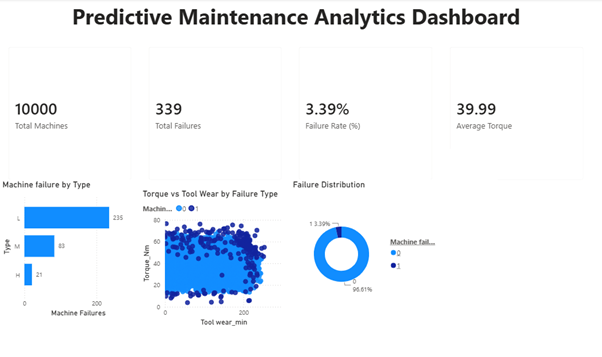

The dashboard page shown, as its layout file describes it:
{"tool":"powerbi","page":{"name":"Page 1","canvas":[1280,720],"ordinal":0},"visuals":[{"type":"cardVisual","fields":{"Data":["predictive_maintenance.Total Machines"]},"box":[0,79.4,279.5,299.4],"z":0},{"type":"cardVisual","fields":{"Data":["predictive_maintenance.Total Failures"]},"box":[279.5,79.4,299.4,299.4],"z":1000},{"type":"cardVisual","fields":{"Data":["predictive_maintenance.Failure Rate (%)"]},"box":[578.9,79.4,300.9,299.4],"z":2000},{"type":"cardVisual","fields":{"Data":["predictive_maintenance.Average Torque"]},"box":[879.8,79.4,300.9,299.4],"z":3000},{"type":"clusteredBarChart","title":"Machine failure by Type","fields":{"Category":["predictive_maintenance.Type"],"Y":["Sum(predictive_maintenance.Machine failure)"]},"box":[0,360.5,279.5,279.5],"z":4000},{"type":"scatterChart","title":"Torque vs Tool Wear by Failure Type","fields":{"X":["predictive_maintenance.Tool wear_min"],"Y":["predictive_maintenance.Torque_Nm"],"Series":["predictive_maintenance.Machine failure"]},"box":[279.5,378.8,299.4,279.5],"z":5000},{"type":"donutChart","title":"Failure Distribution","fields":{"Category":["predictive_maintenance.Machine failure"],"Y":["CountNonNull(predictive_maintenance.Machine failure)"]},"box":[578.9,360.5,300.9,279.5],"z":6000},{"type":"textbox","box":[879.8,299.4,113,91.6],"z":6001},{"type":"textbox","box":[0,0,1180.7,79.4],"z":6002}]}

Visuals, with their boxes on the page's 1280x720 design canvas (x1, y1, x2, y2). These are canvas units, not pixel positions in the 602x357 screenshot, which may show the page scaled, cropped or inside an application window:
cardVisual - predictive_maintenance.Total Machines: [0, 79, 280, 379]
cardVisual - predictive_maintenance.Total Failures: [280, 79, 579, 379]
cardVisual - predictive_maintenance.Failure Rate (%): [579, 79, 880, 379]
cardVisual - predictive_maintenance.Average Torque: [880, 79, 1181, 379]
"Machine failure by Type" clusteredBarChart: [0, 360, 280, 640]
"Torque vs Tool Wear by Failure Type" scatterChart: [280, 379, 579, 658]
"Failure Distribution" donutChart: [579, 360, 880, 640]
textbox: [880, 299, 993, 391]
textbox: [0, 0, 1181, 79]
